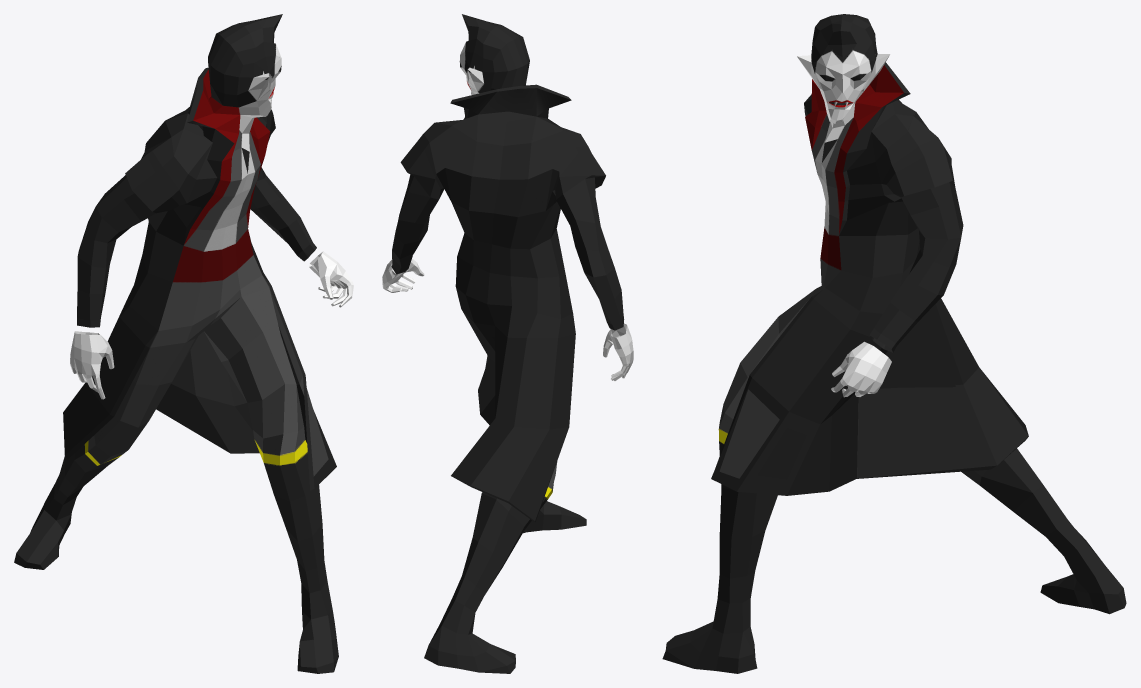
The model's file is VampireIdle(29).obj.
3 views of the same model, side by side, from view 1: azimuth 30°, elevation 25°; view 2: azimuth 150°, elevation 25°; view 3: azimuth 270°, elevation 25° (orthographic). The views are drawn at different scales.
Visible parts, largest first — view 1: Plane002; view 2: Plane002; view 3: Plane002.
Part boxes in pixels (x1=…): Plane002: x1=14, y1=14, x2=353, y2=673; Plane002: x1=382, y1=14, x2=633, y2=673; Plane002: x1=662, y1=14, x2=1126, y2=673.
Size of the model in its own units: 145 by 304 by 199.
